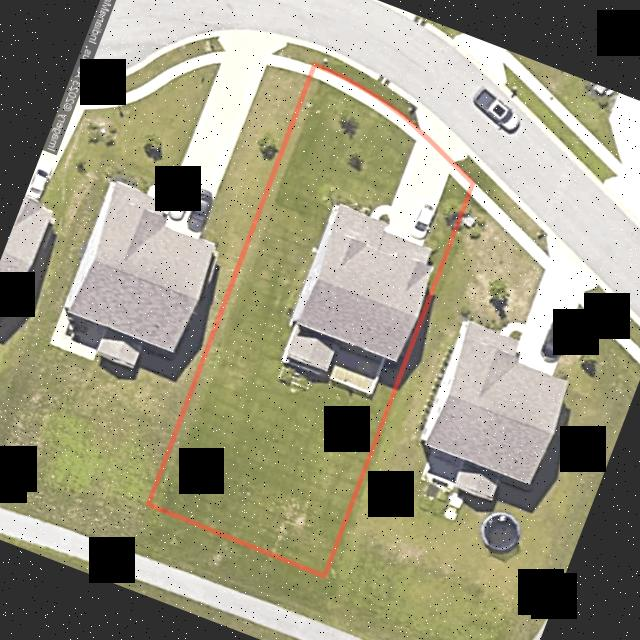Driveway: (383, 137, 450, 244)
Extra Driveway: (412, 108, 473, 160)
Extra Lawn: (316, 47, 416, 121), (453, 156, 477, 180)
Extra Sidewalk: (310, 64, 423, 138), (318, 45, 431, 112), (450, 169, 473, 191), (469, 153, 482, 161)
House: (283, 204, 433, 396)
Sidewalk: (371, 204, 396, 223)
